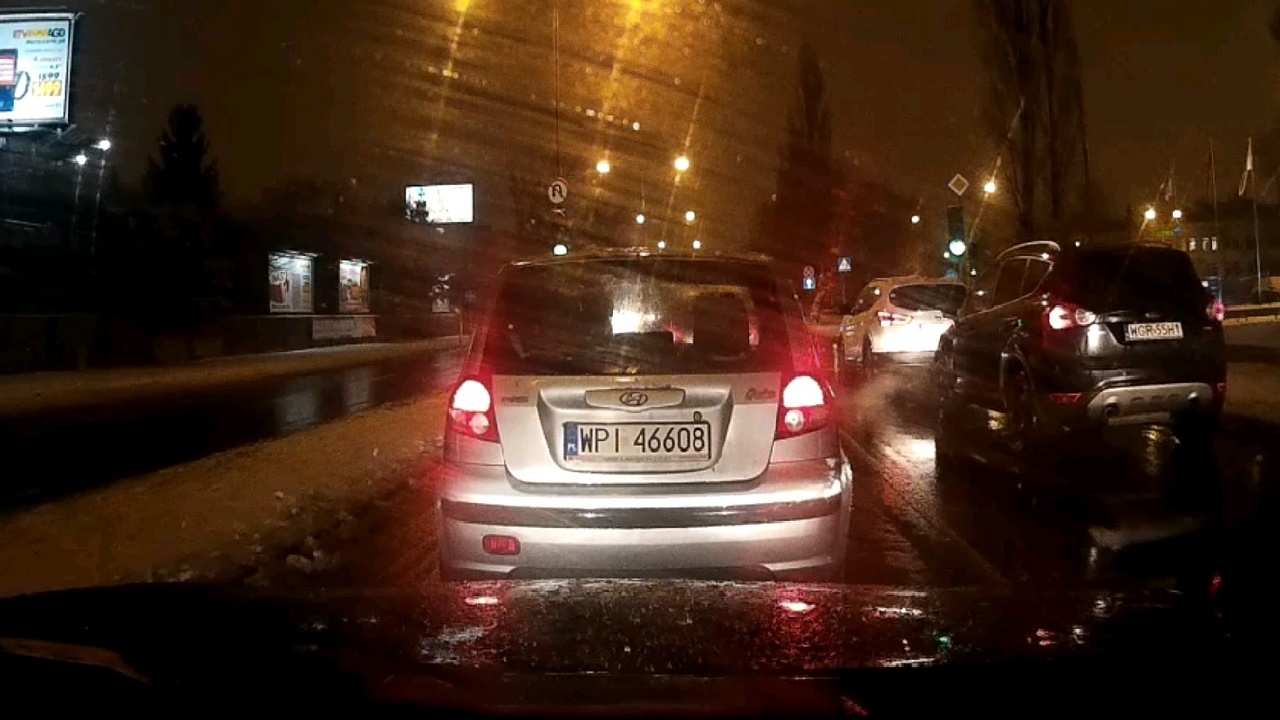B23: (539, 174, 578, 206)
D1: (945, 170, 975, 196)
